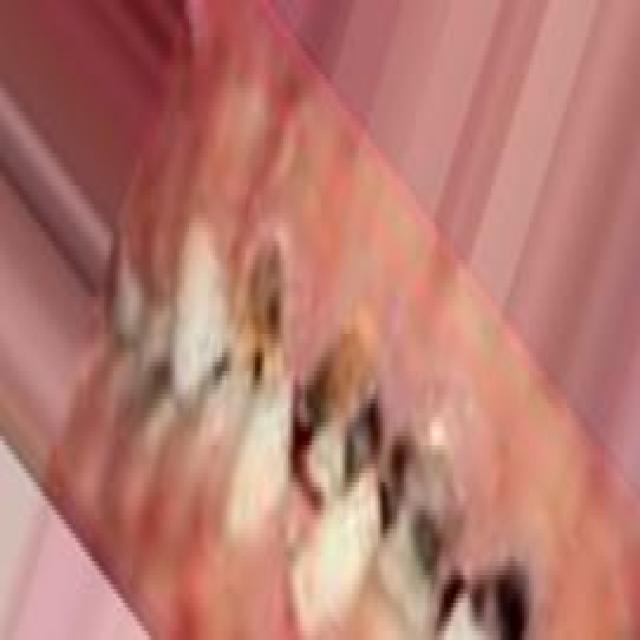caries: (376, 403, 459, 625), (296, 320, 387, 514), (224, 213, 299, 396), (443, 531, 548, 640)
